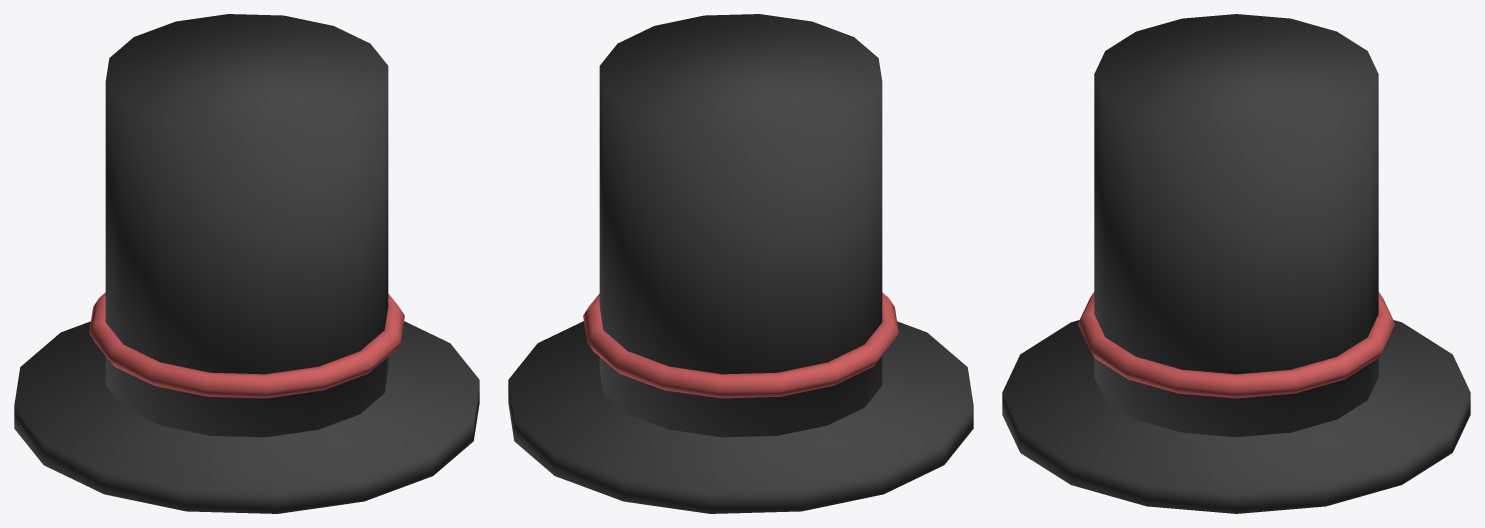
Rendered from hat_top_hat.glb.
3 views of the same model, side by side, from view 1: azimuth 30°, elevation 25°; view 2: azimuth 150°, elevation 25°; view 3: azimuth 270°, elevation 25° (orthographic).
Visible parts, largest first — view 1: hat_top_hat; view 2: hat_top_hat; view 3: hat_top_hat.
Boxes of the visible parts, box(x1,y1,x2,y2) form: hat_top_hat: box(14, 14, 479, 513); hat_top_hat: box(508, 14, 973, 513); hat_top_hat: box(1002, 14, 1470, 513).
Bounding box in the file's own units: 0.56 × 0.45 × 0.56.
